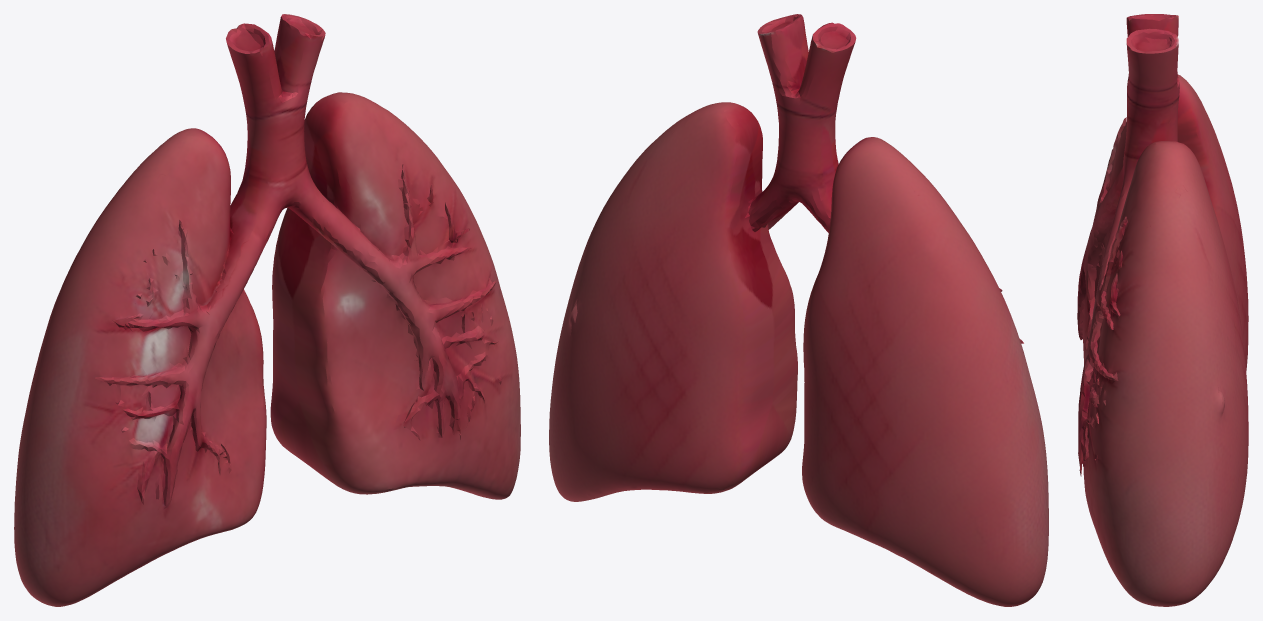
Rendered from dog_lungs.glb.
3 renders of one model, left to right at view 1: azimuth 30°, elevation 25°; view 2: azimuth 150°, elevation 25°; view 3: azimuth 270°, elevation 25°, orthographic. The views are drawn at different scales.
Visible parts, largest first — view 1: model; view 2: model; view 3: model.
Boxes of the visible parts, x1,y1,x2,y2 form: model: [14, 14, 520, 606]; model: [549, 14, 1048, 606]; model: [1077, 14, 1248, 606].
Size of the model in its own units: 1.84 by 1.89 by 0.6071.
1 material, 1 textured.
